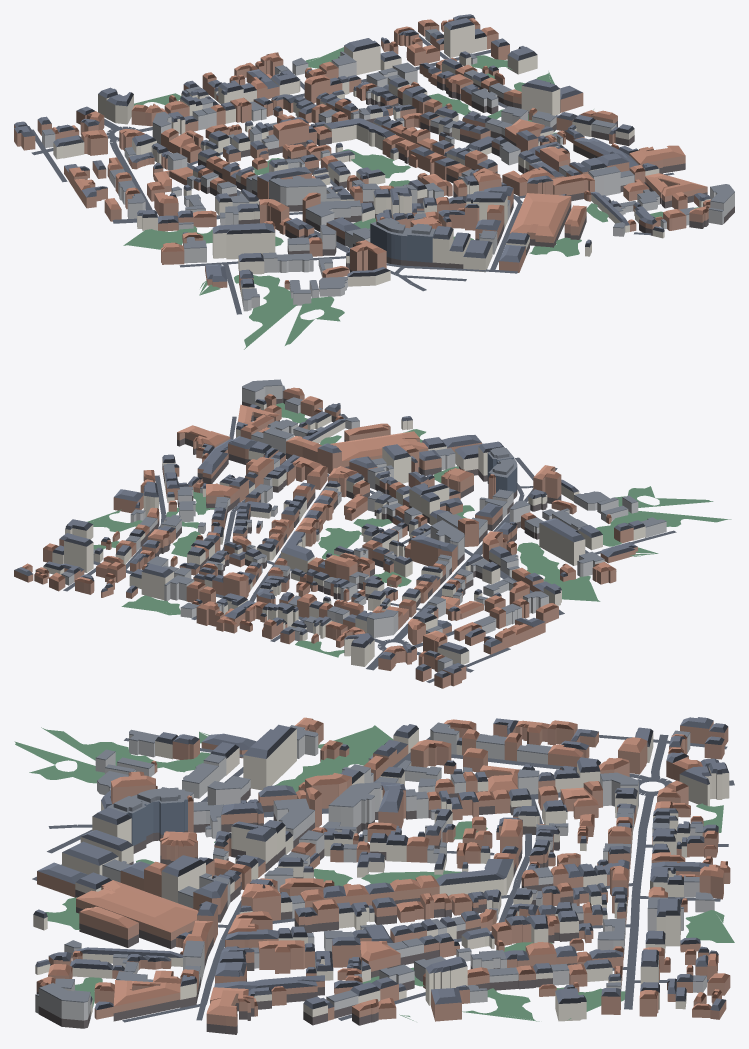
Rendered from tile_1_1_lod0.glb.
The picture shows the model from 3 angles, top to bottom: view 1: azimuth 30°, elevation 25°; view 2: azimuth 150°, elevation 25°; view 3: azimuth 270°, elevation 25°; orthographic projection. The views are drawn at different scales.
Visible parts, largest first — view 1: TileRoot; view 2: TileRoot; view 3: TileRoot.
Boxes of the visible parts, x1=… form: TileRoot: x1=14, y1=14, x2=734, y2=349; TileRoot: x1=14, y1=379, x2=731, y2=688; TileRoot: x1=14, y1=717, x2=734, y2=1034.
Bounding box in the file's own units: 445 × 37.68 × 423.
